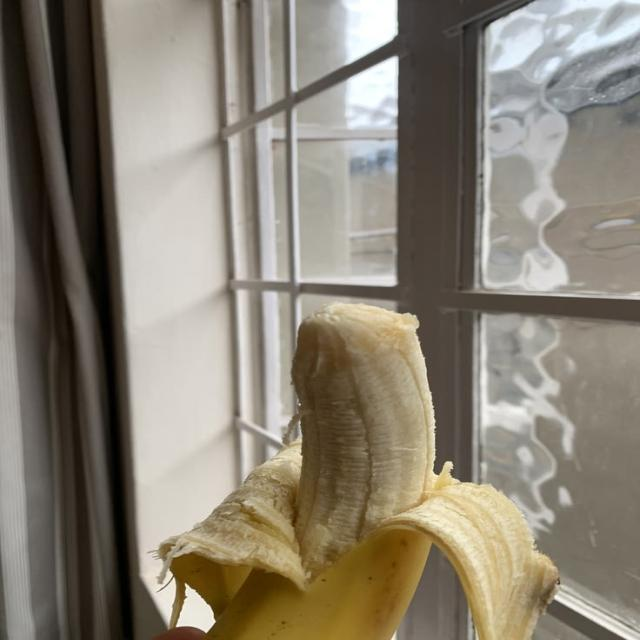banana: (160, 304, 558, 639)
